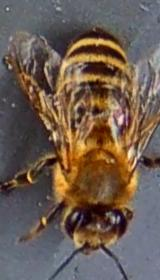varroa_mite: (103, 102, 133, 136)
